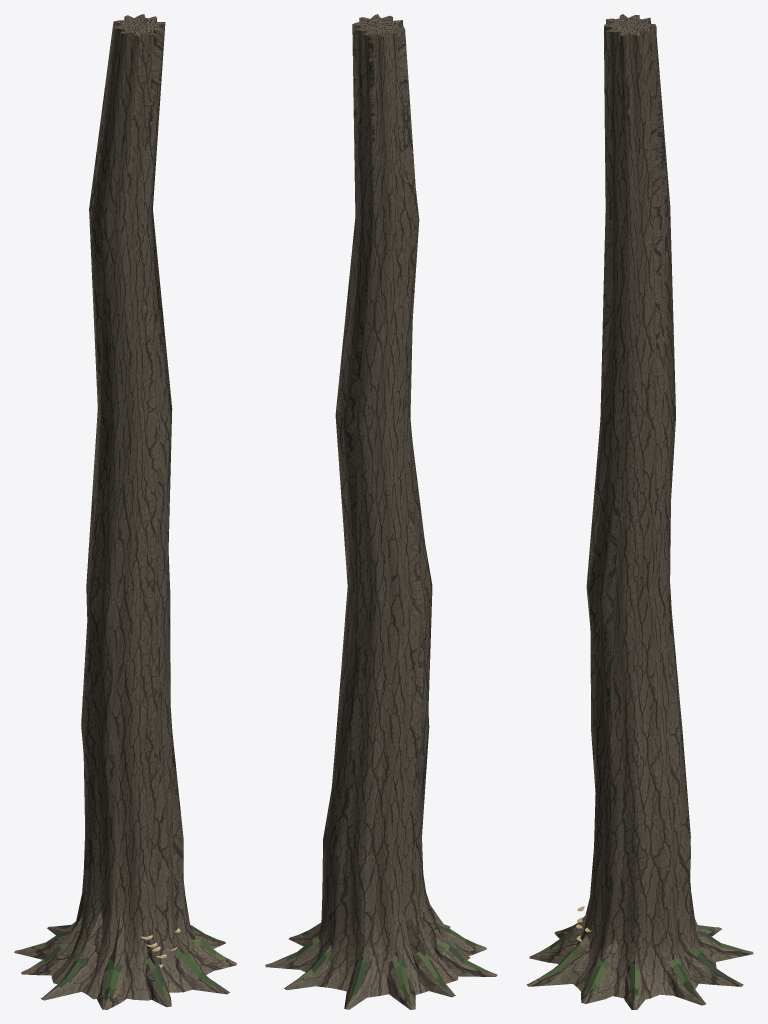
3 views of the same model, side by side, from view 1: azimuth 30°, elevation 25°; view 2: azimuth 150°, elevation 25°; view 3: azimuth 270°, elevation 25° (orthographic).
Parts seen in each view (by area): view 1: ancient-canopy-trunk · evaluated preview mesh; view 2: ancient-canopy-trunk · evaluated preview mesh; view 3: ancient-canopy-trunk · evaluated preview mesh.
Part boxes in pixels (box(x1,y1,x2,y2)): ancient-canopy-trunk · evaluated preview mesh: box(14, 14, 236, 1009); ancient-canopy-trunk · evaluated preview mesh: box(265, 14, 497, 1009); ancient-canopy-trunk · evaluated preview mesh: box(526, 14, 753, 1009).
Size of the model in its own units: 13.1 by 60.06 by 13.12.
Materials: 6 (1 with a texture image).
